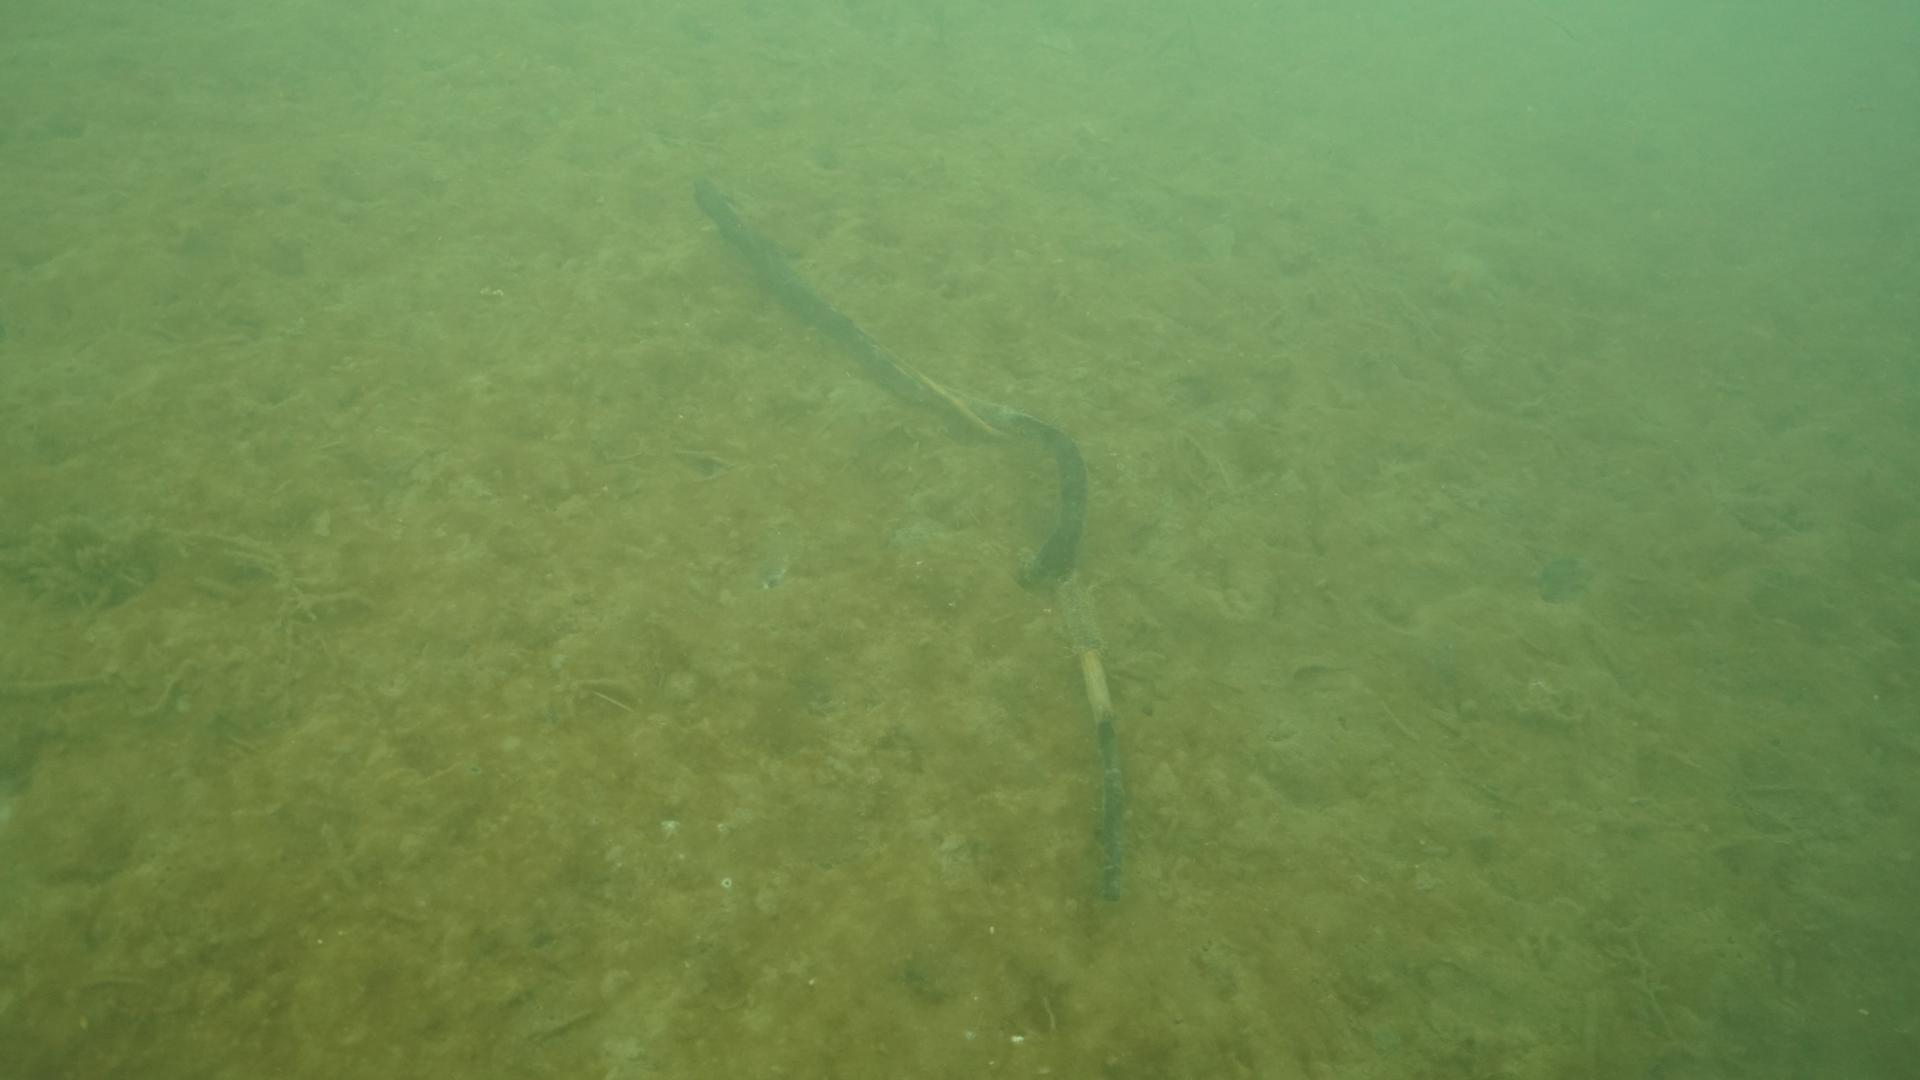wood: (688, 178, 1122, 899)
